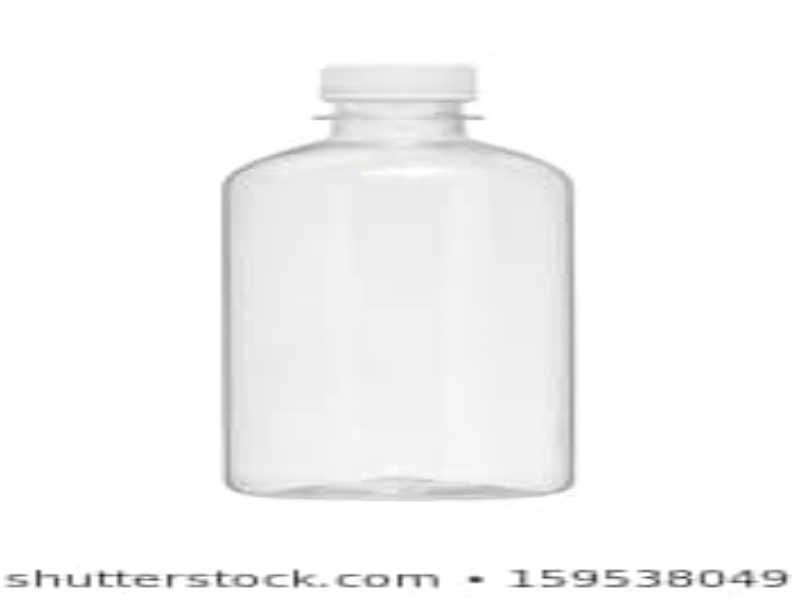bottle-cap: (308, 61, 483, 106)
plastic-bottle: (207, 63, 583, 502)
